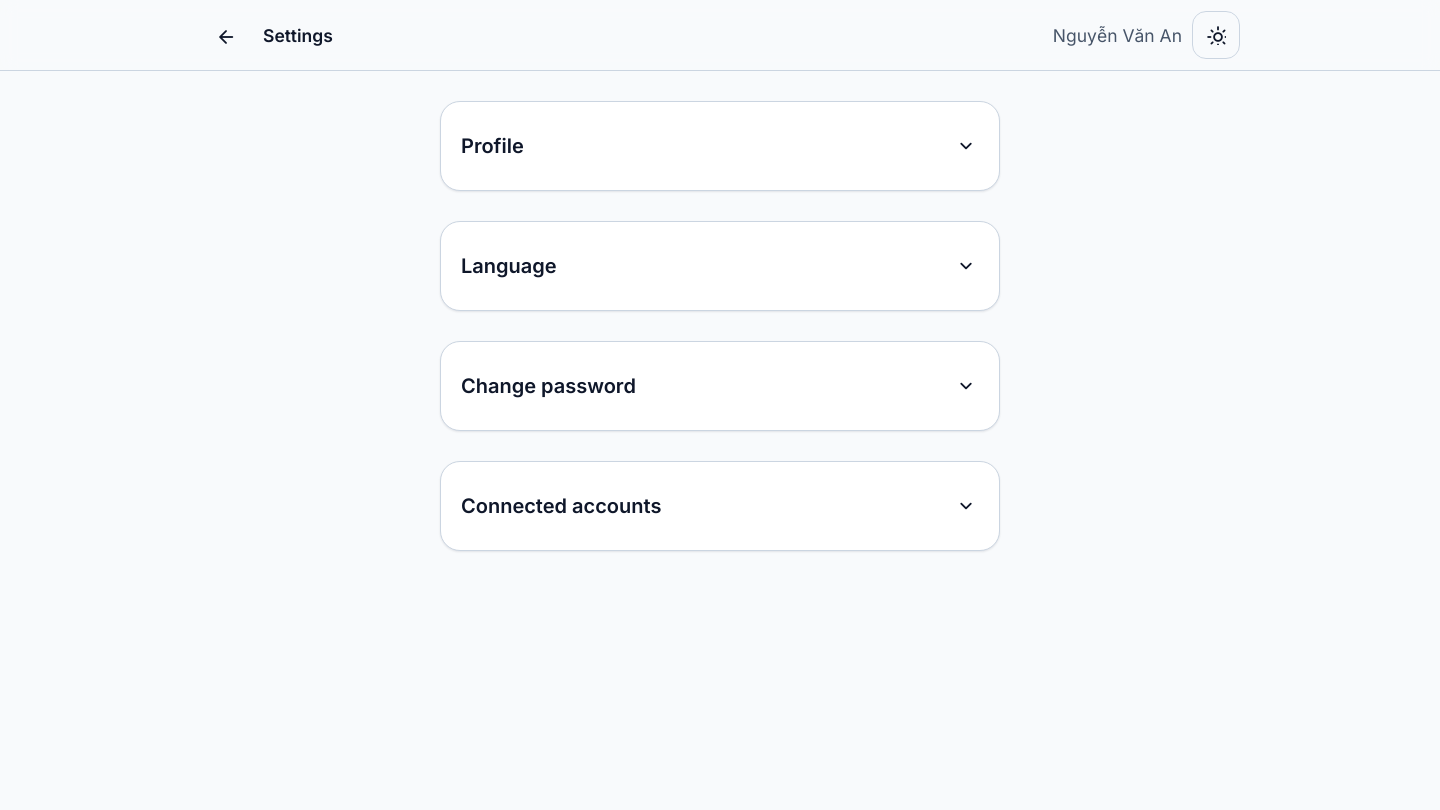
Test: SettingsPage language preference › switches the authenticated interface to formal Vietnamese
Click the button with aria-label "Language settings" at {"x": 509, "y": 266}, box [461,242,979,290]
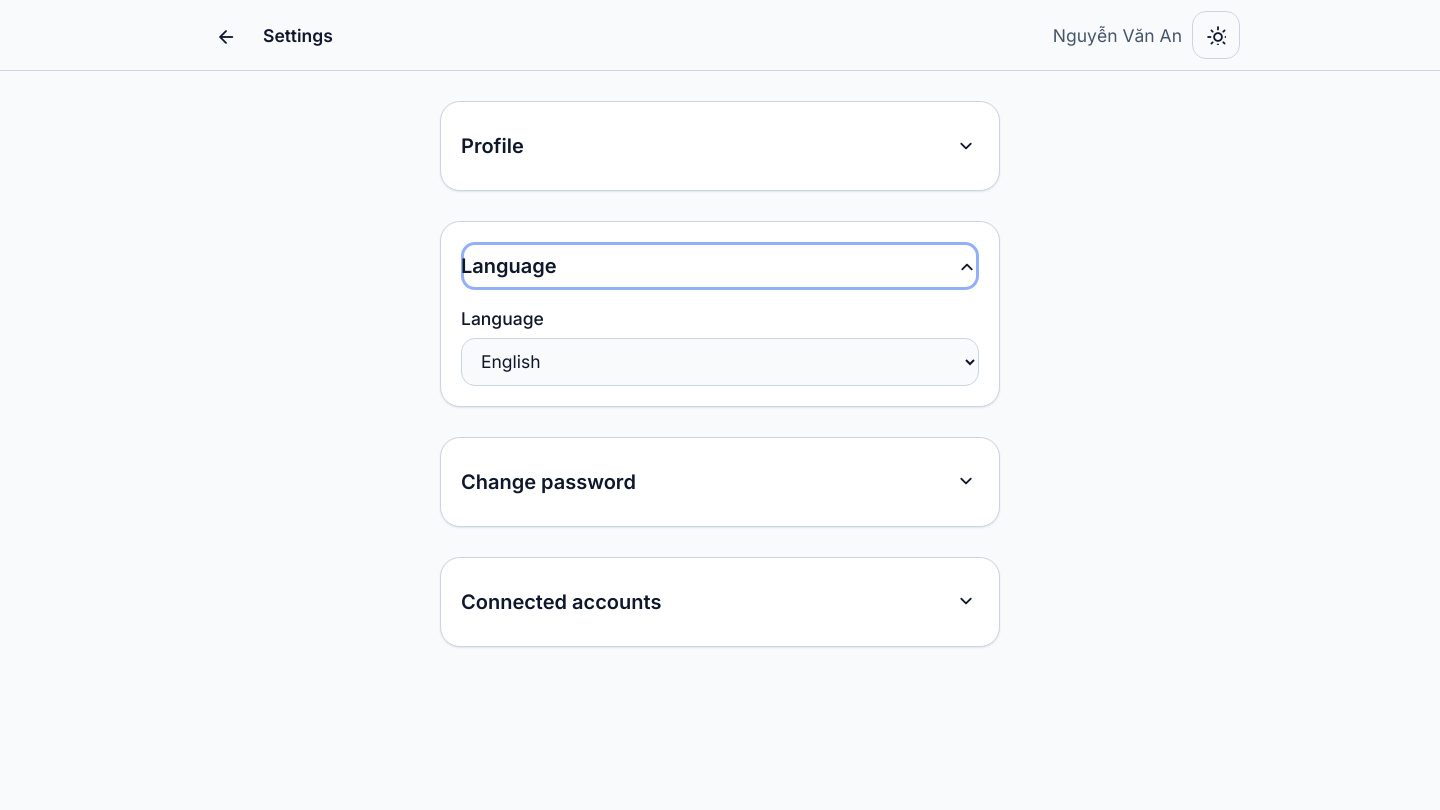
Select "Tiếng Việt" in the dropdown labelled "Language" at {"x": 720, "y": 362}, box [461,338,979,386]
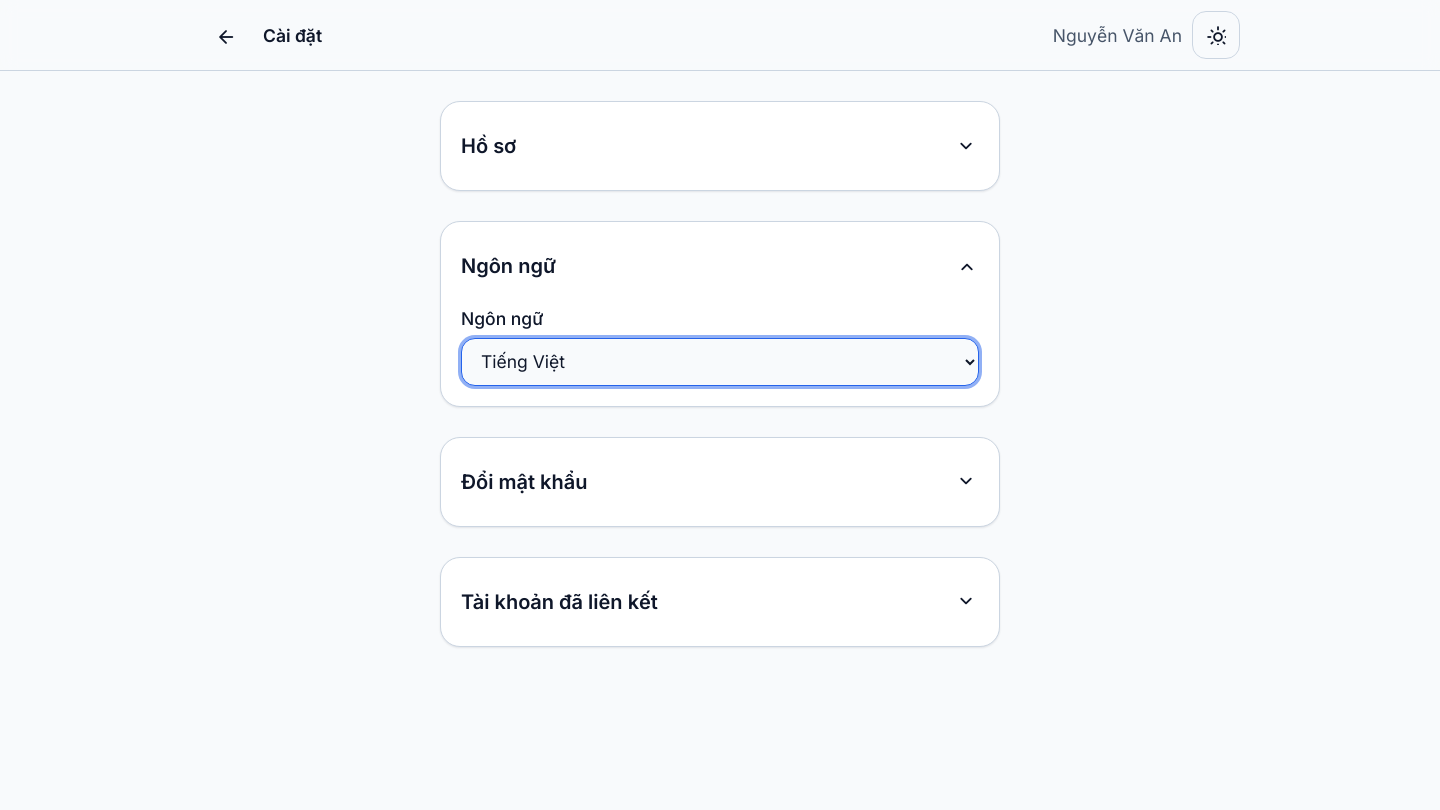
Now the heading "Cài đặt" is shown, box [263,22,322,48]
Now the text "Tài khoản đã liên kết" is shown, box [461,586,658,616]
